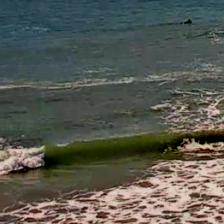surfer: (179, 19, 192, 24)
